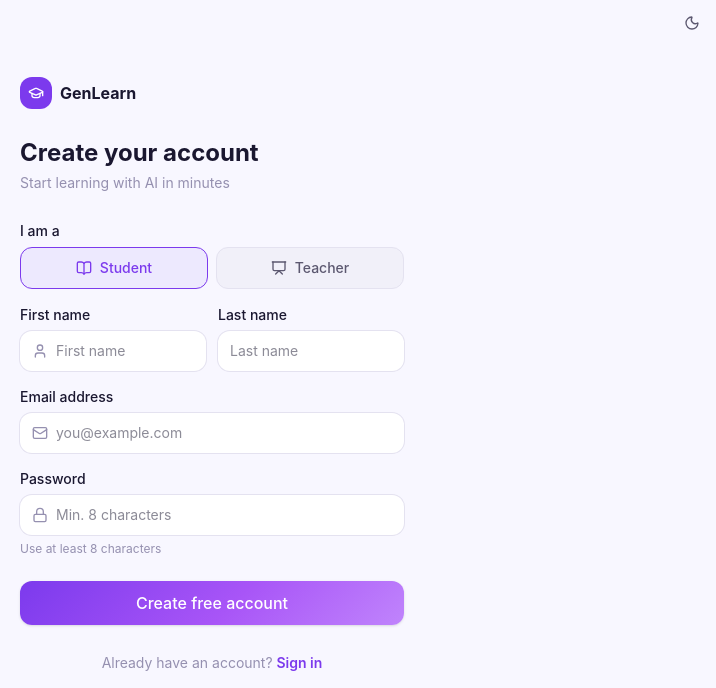
Test: RegisterPage › shows validation error for short password
The image size is (716, 688).
Type "Alice" into the field labelled "First name". click: (113,351)
box: x1=20 y1=331 x2=206 y2=371
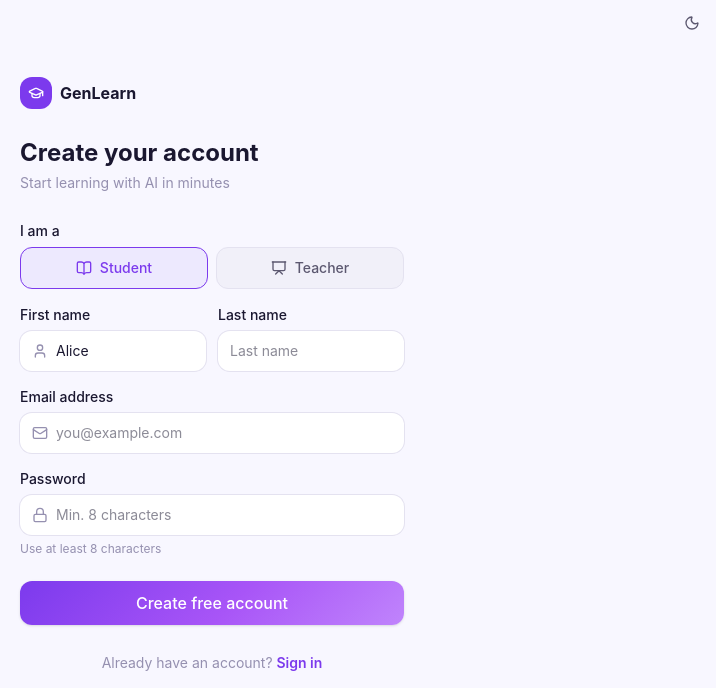
Type "Smith" into the field labelled "Last name". click: (311,351)
box: x1=218 y1=331 x2=404 y2=371
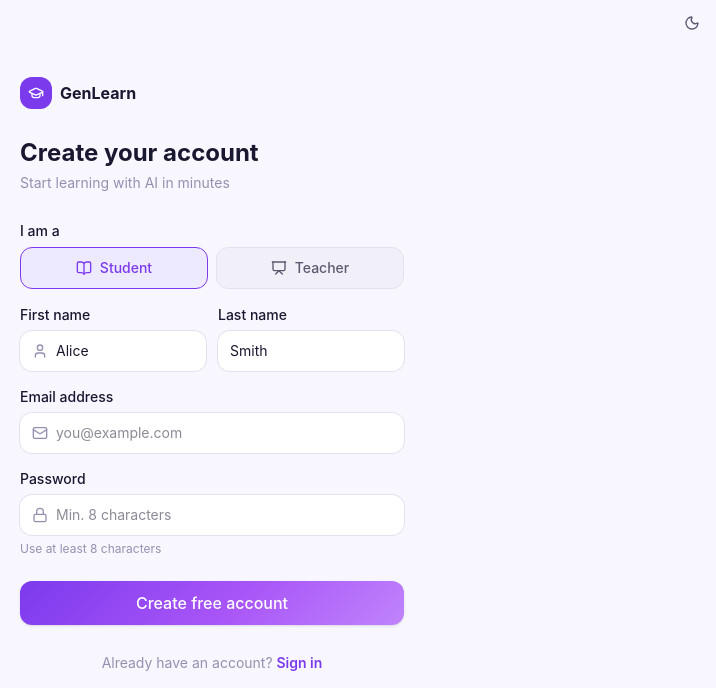
Type "alice@test.com" into the field labelled "Email address". click: (212,433)
box: x1=20 y1=413 x2=404 y2=453
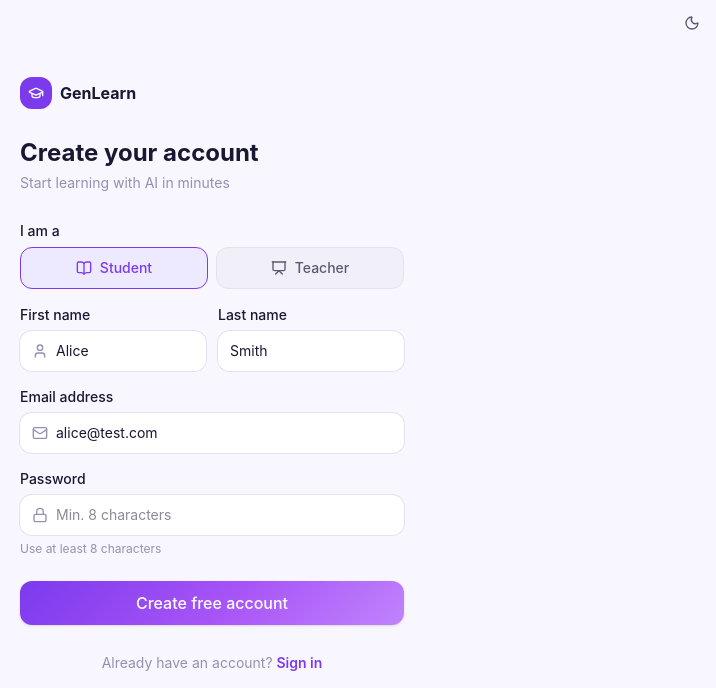
Type "short" into the password field labelled "Password". click: (212,515)
box: x1=20 y1=495 x2=404 y2=535
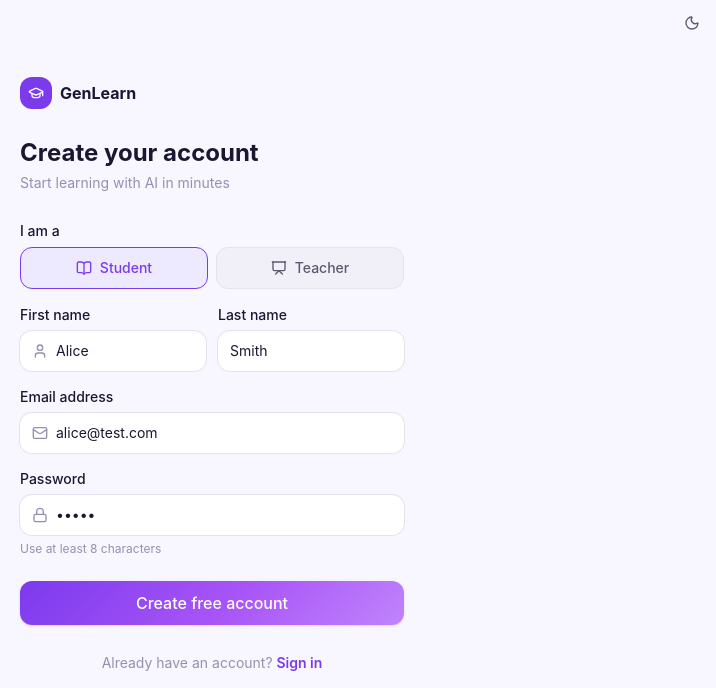
Submit the form from the button "Create free account", box x1=20 y1=581 x2=404 y2=625
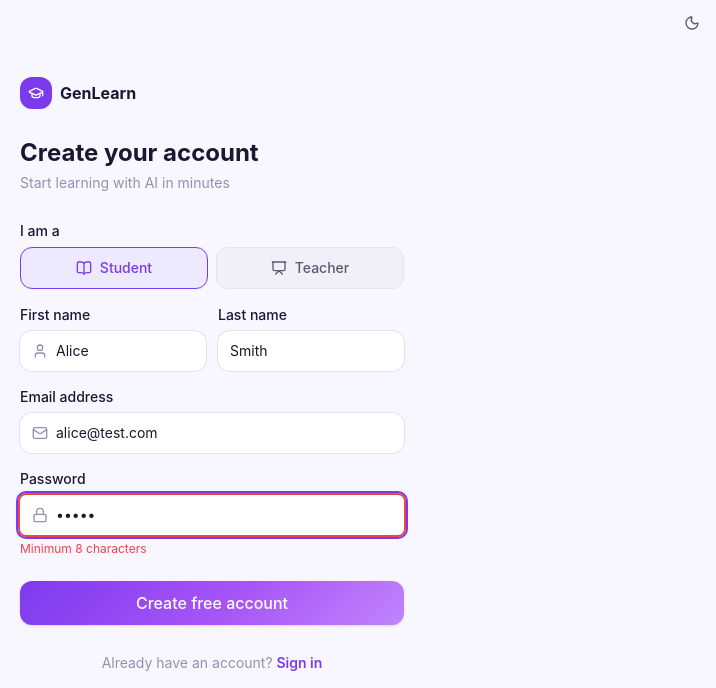
Expected: the text "Minimum 8 characters" is shown, x1=20 y1=541 x2=146 y2=556
